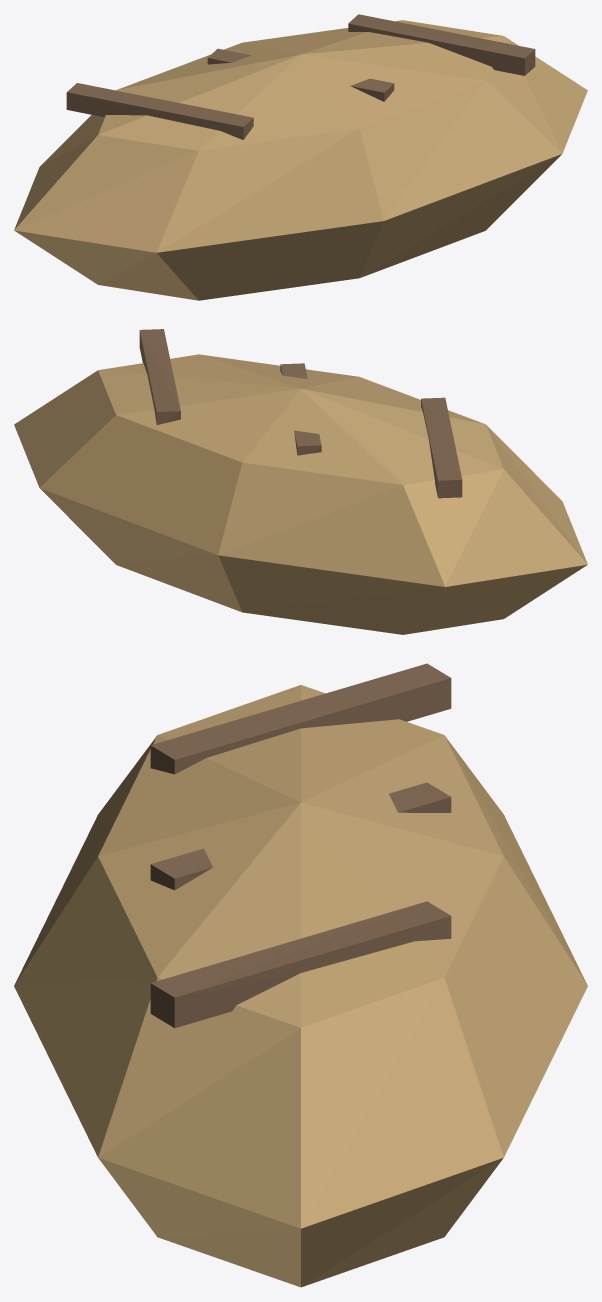
Rendered from bread.glb.
3 views of the same model, one above another, from view 1: azimuth 30°, elevation 25°; view 2: azimuth 150°, elevation 25°; view 3: azimuth 270°, elevation 25° (orthographic). The views are drawn at different scales.
Visible parts, largest first — view 1: bread; view 2: bread; view 3: bread.
Boxes of the visible parts, box(x1,y1,x2,y2) form: bread: box(14, 14, 587, 300); bread: box(14, 329, 587, 634); bread: box(14, 663, 587, 1287).
Bounding box in the file's own units: 0.408 × 0.144 × 0.204.
